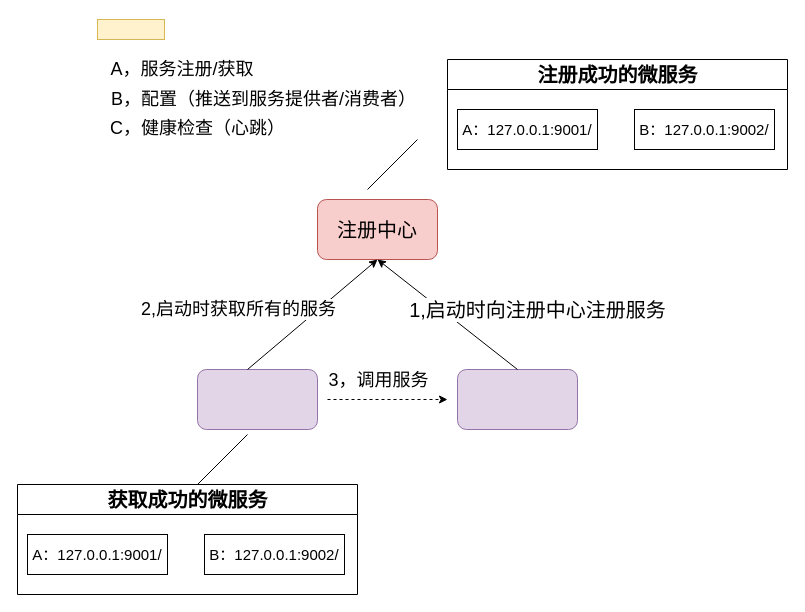
The diagram is 805 pixels wide and 612 high, and some of its shapes have lost their labels. Here are the shapes that lost their labels. From the top down, the centre of each, then its label:
At (x=130, y=29): "功能".
At (x=257, y=399): "服务消费者".
At (x=517, y=399): "服务提供者".
